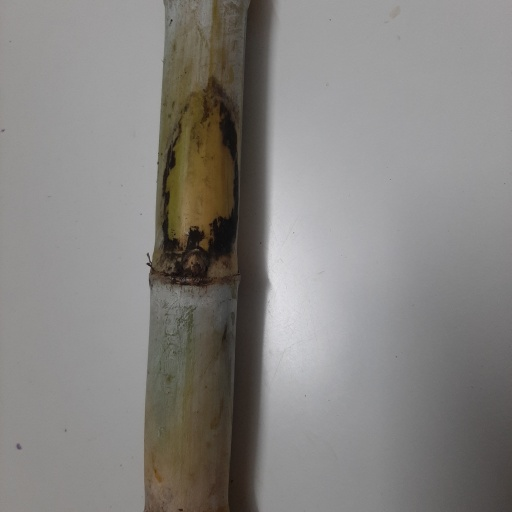Bud: (181, 246, 208, 277)
